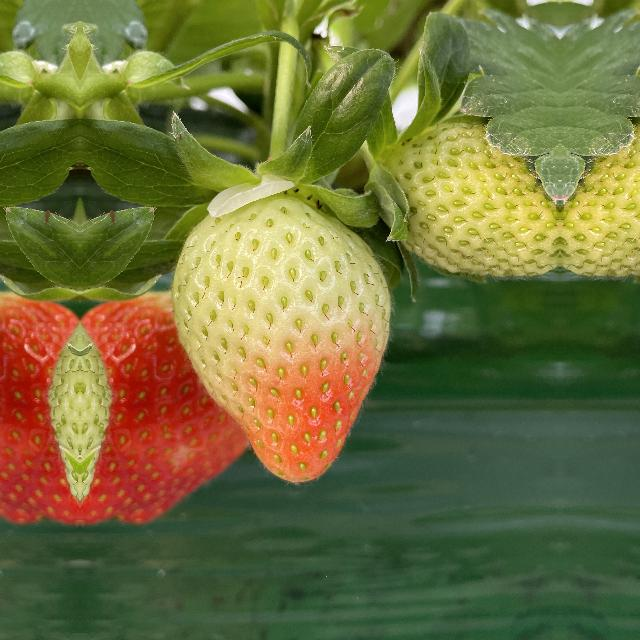Health_100: (80, 280, 258, 526), (0, 280, 80, 526)
Health_25: (384, 112, 560, 280), (560, 111, 640, 280)
Health_50: (168, 188, 398, 490)
